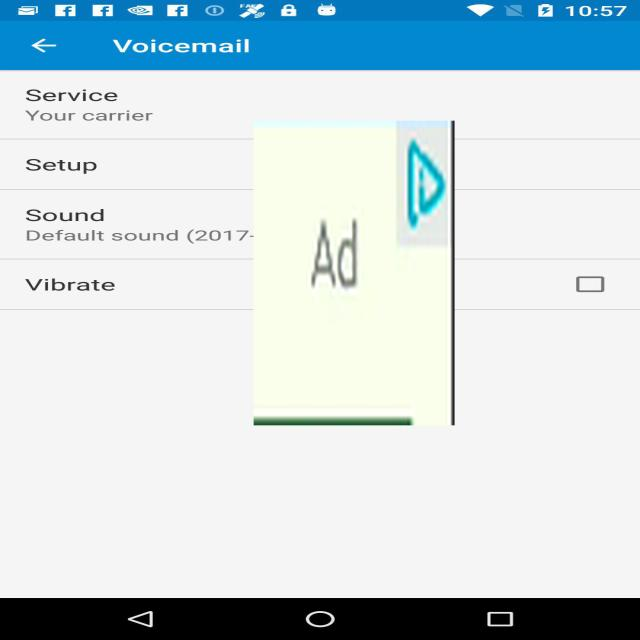sneaking: (253, 121, 454, 425)
